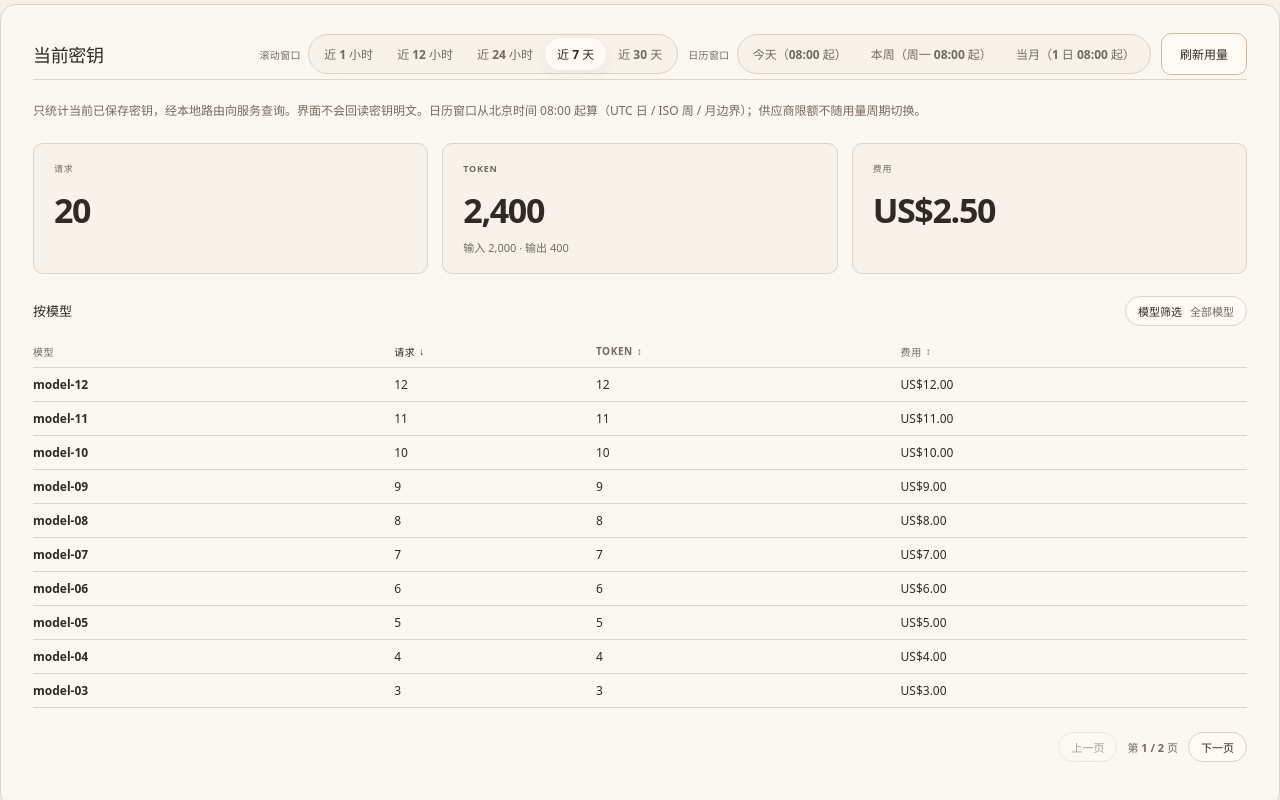
UsagePage › restarts on page one after sorting or refreshing the same model set
This screenshot has width=1280, height=800.
expect the table is shown: met, box [33,336,1247,708]
Click the button "下一页" at (1218, 747), box [1188,732,1247,762]
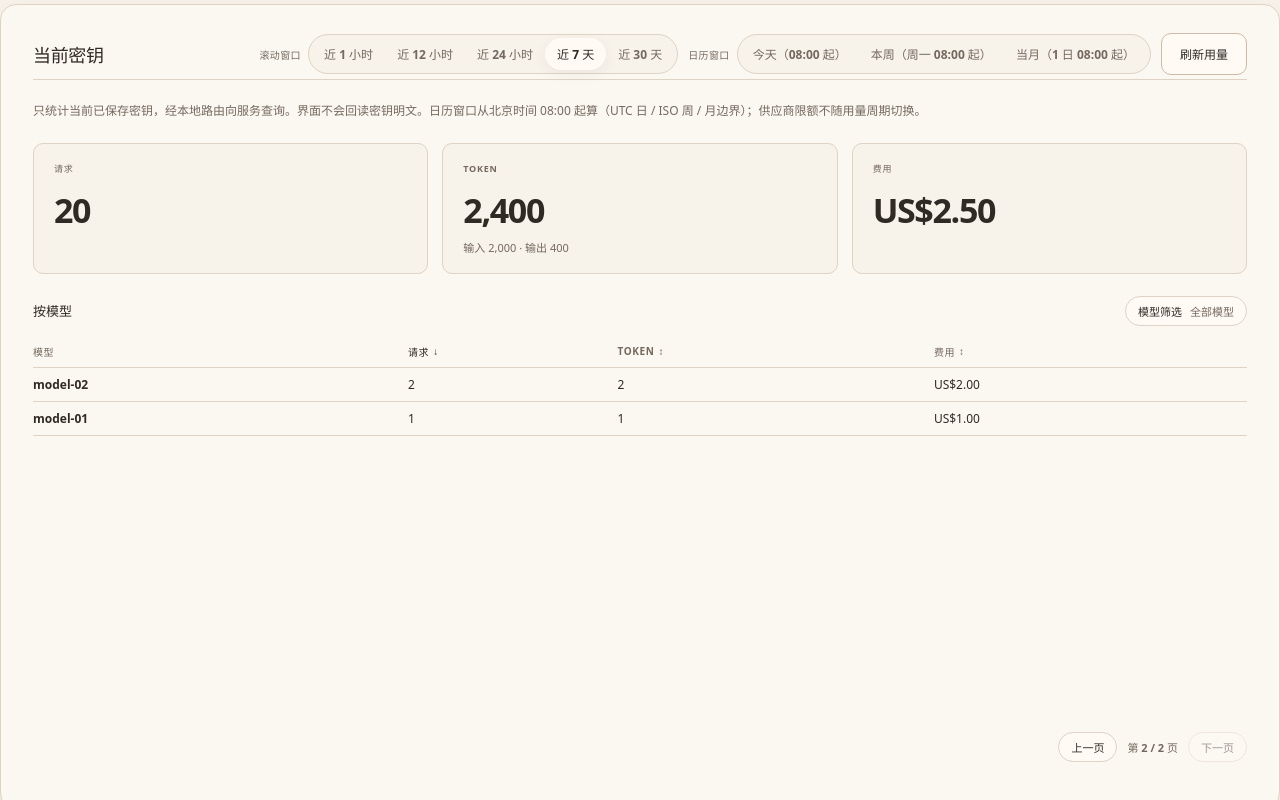
expect the text "第 2 / 2 页" is shown: met, box [1127,739,1178,755]
Click the button "请求 ↓" at (423, 351), box [408,344,439,359]
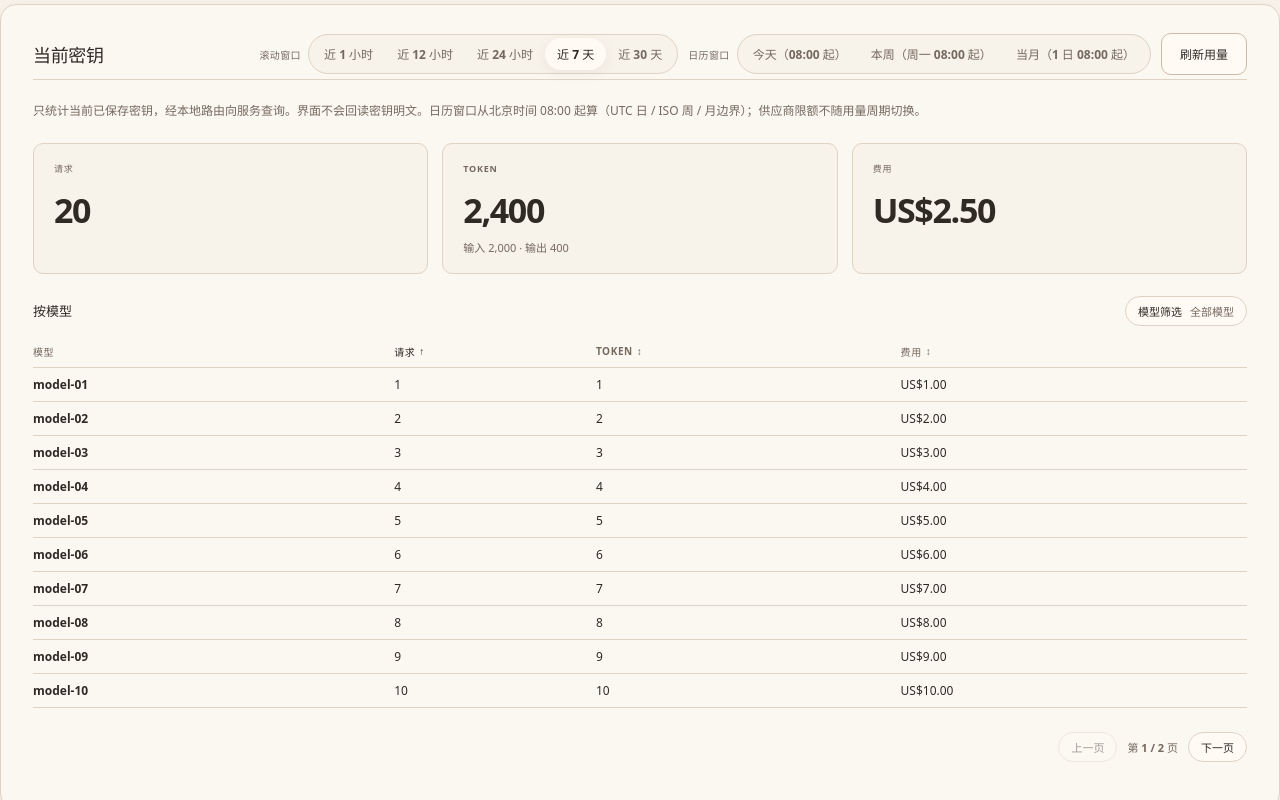
expect the text "第 1 / 2 页" is shown: met, box [1127,739,1178,755]
Click the button "下一页" at (1218, 747), box [1188,732,1247,762]
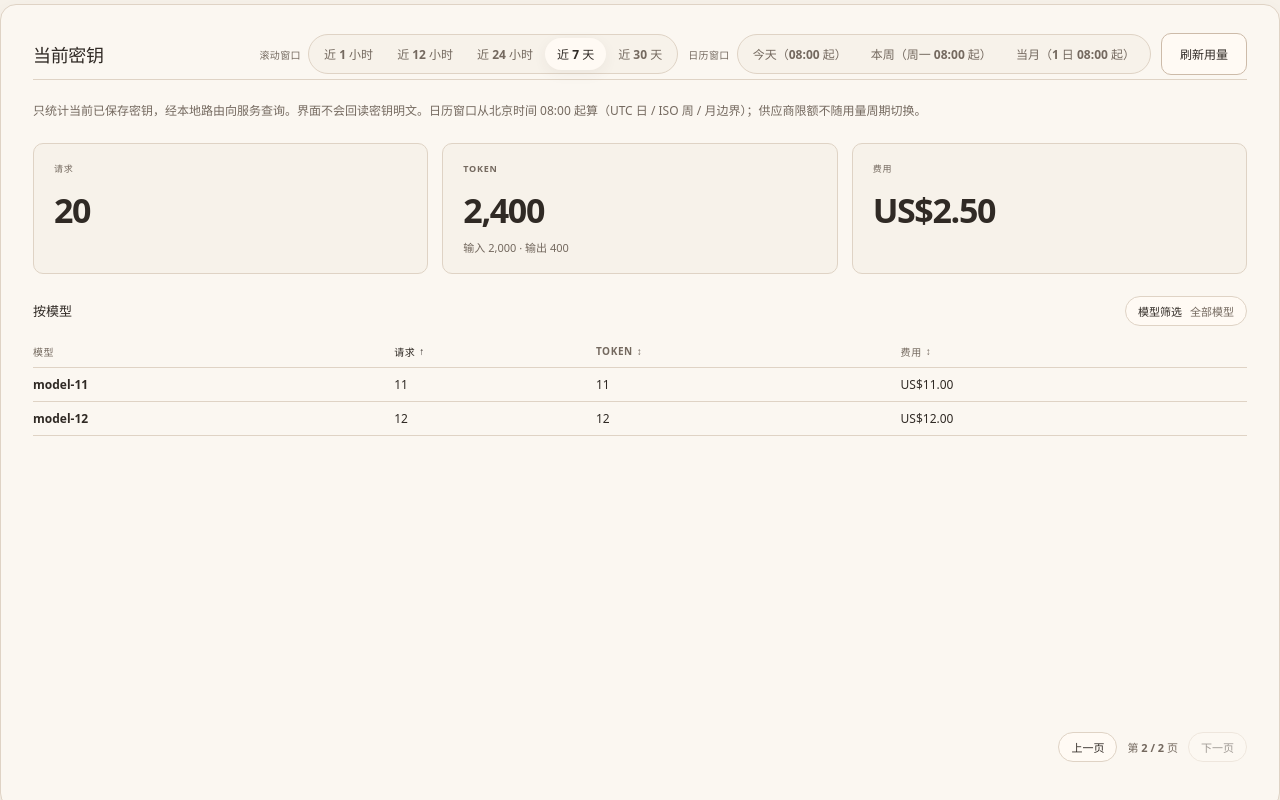
Click the button "刷新用量" at (1204, 54), box [1161,33,1247,75]
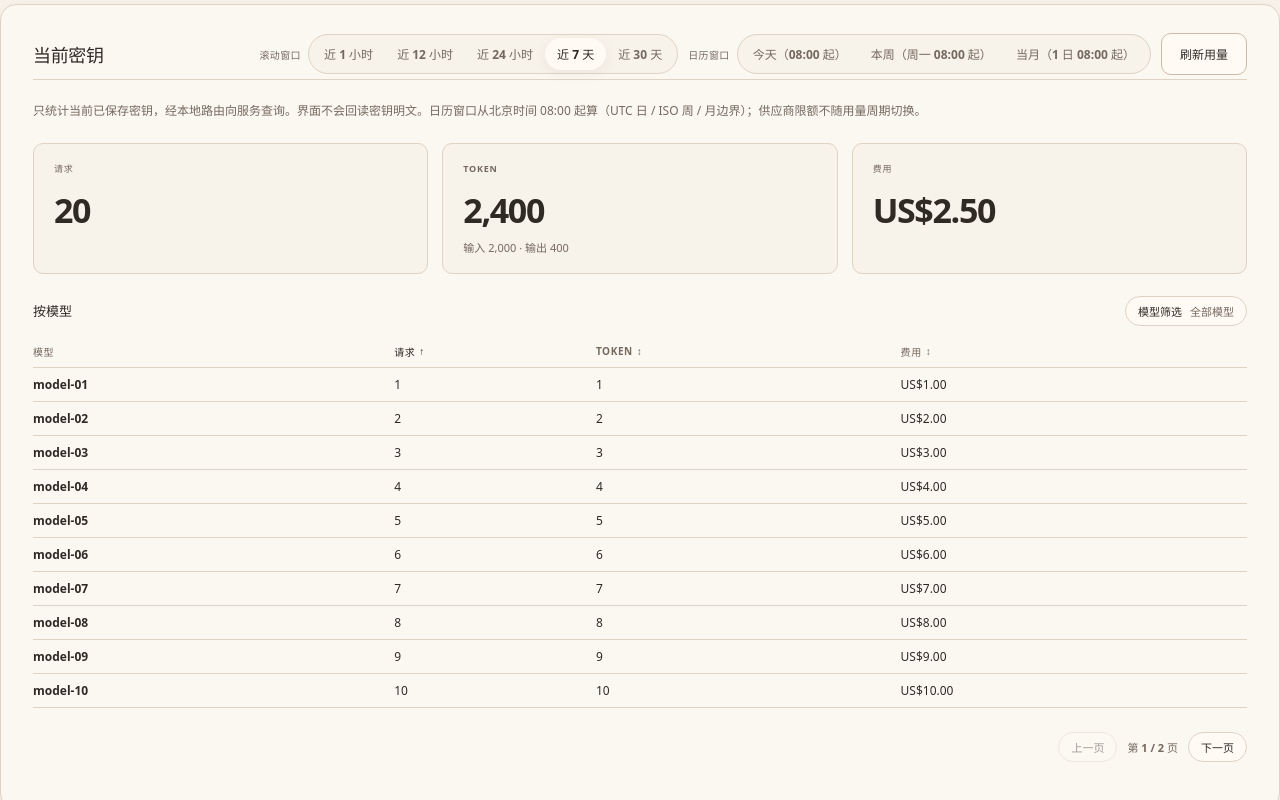
expect the text "第 1 / 2 页" is shown: met, box [1127,739,1178,755]
